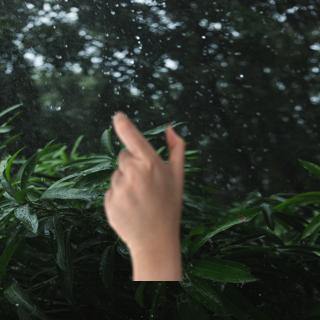HATE: (90, 97, 195, 273)
